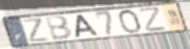7: (93, 9, 114, 38)
A: (75, 14, 101, 39)
B: (44, 15, 75, 41)
O: (117, 8, 143, 34)
Z: (138, 5, 169, 33), (21, 17, 52, 44)
